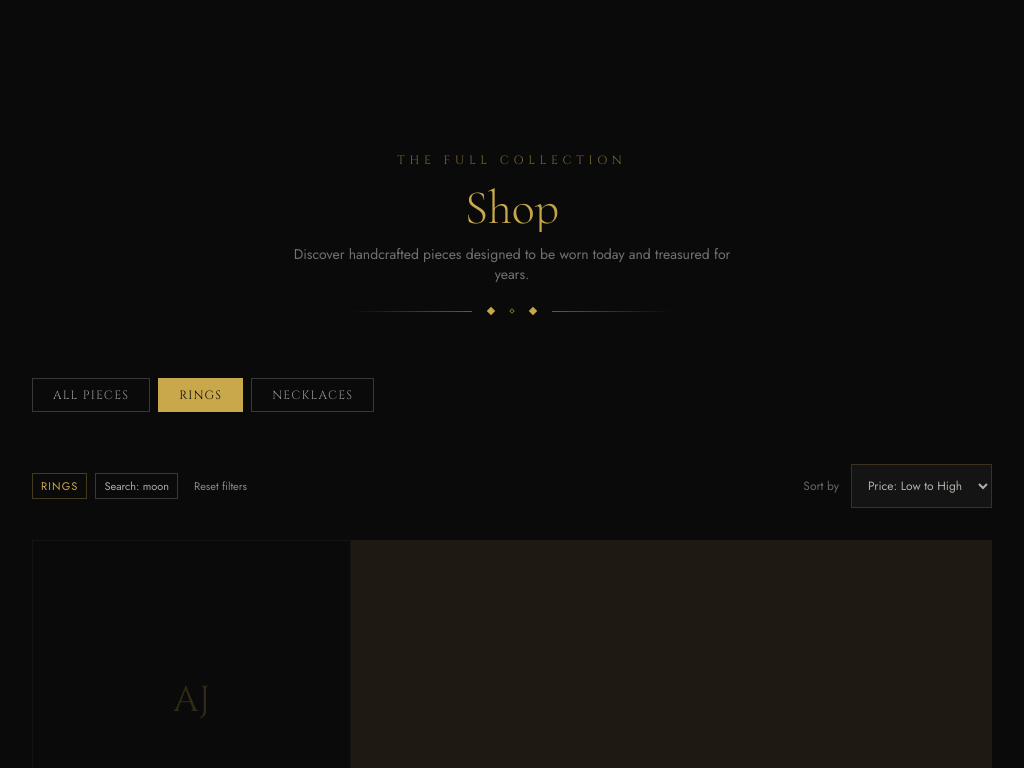
Scenario: ProductsPage mobile tabs › resets filters and hides chips when reset is clicked
Step 1. Click the button "Reset filters" → (220, 486), box [186,470,255,502]
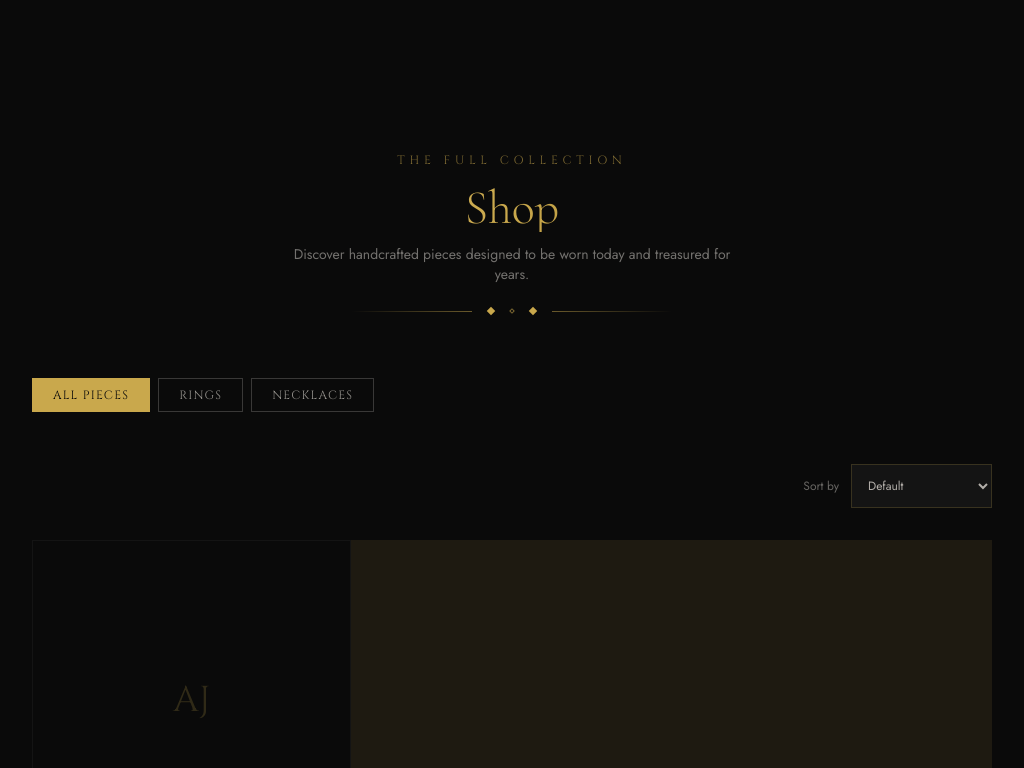
Expected: the text "Search: moon" is gone
Expected: the button "Reset filters" is gone
